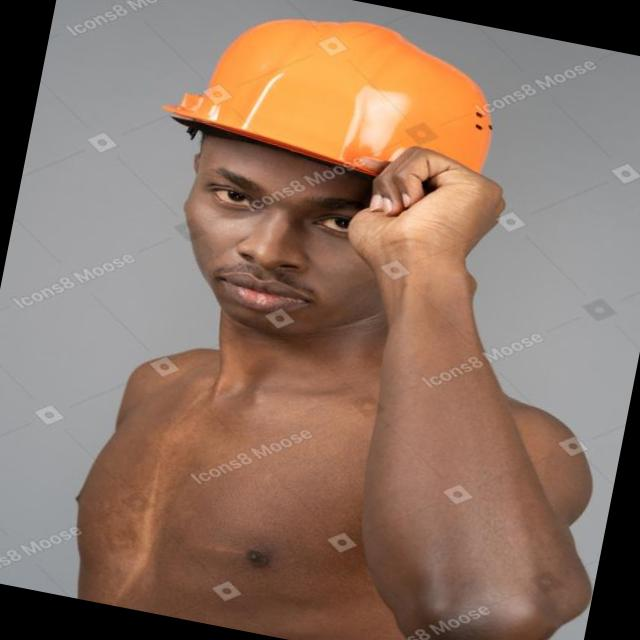Helmet: (160, 0, 540, 221)
